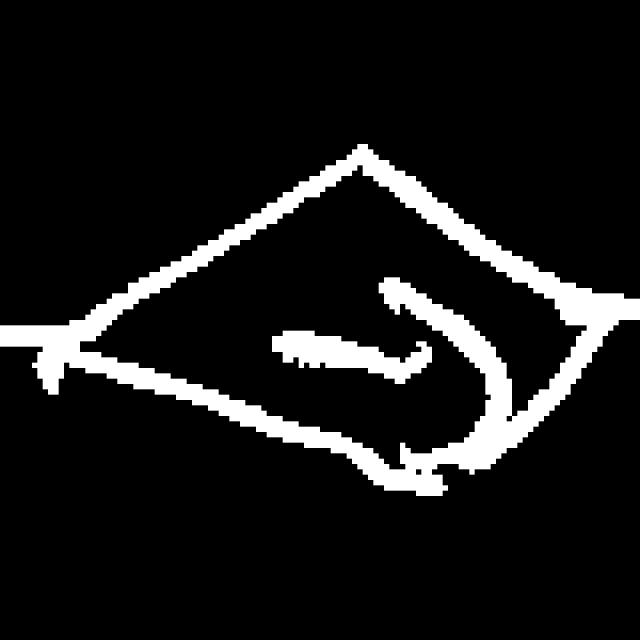dependant_current: (71, 142, 613, 490)
